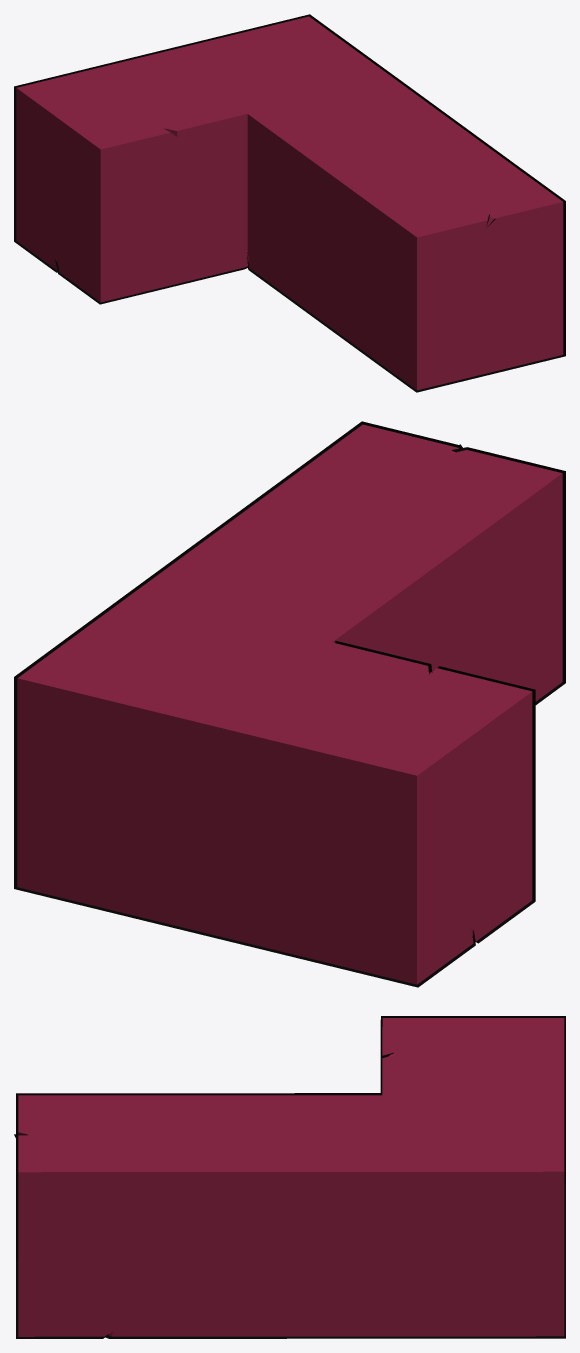
File: Cubo_L.fbx
The picture shows the model from 3 angles, top to bottom: view 1: azimuth 30°, elevation 25°; view 2: azimuth 150°, elevation 25°; view 3: azimuth 270°, elevation 25°; orthographic projection. The views are drawn at different scales.
Visible parts, largest first — view 1: Cubo_L, LineArt; view 2: Cubo_L, LineArt; view 3: Cubo_L, LineArt.
Boxes of the visible parts, x1=… form: Cubo_L: x1=16, y1=16, x2=563, y2=390; LineArt: x1=14, y1=14, x2=565, y2=392; Cubo_L: x1=17, y1=424, x2=562, y2=984; LineArt: x1=14, y1=421, x2=565, y2=987; Cubo_L: x1=18, y1=1018, x2=564, y2=1336; LineArt: x1=14, y1=1016, x2=565, y2=1338.
Size of the model in its own units: 2.03 by 1.01 by 3.04.
